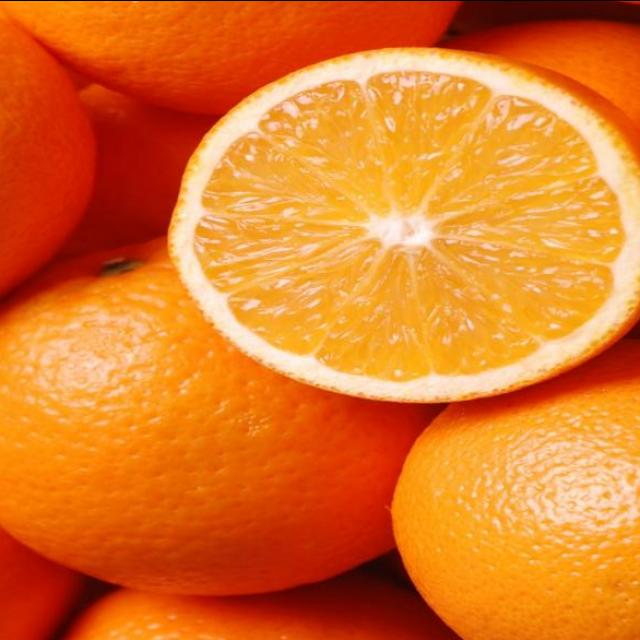orange: (0, 189, 448, 603), (383, 331, 640, 640)
